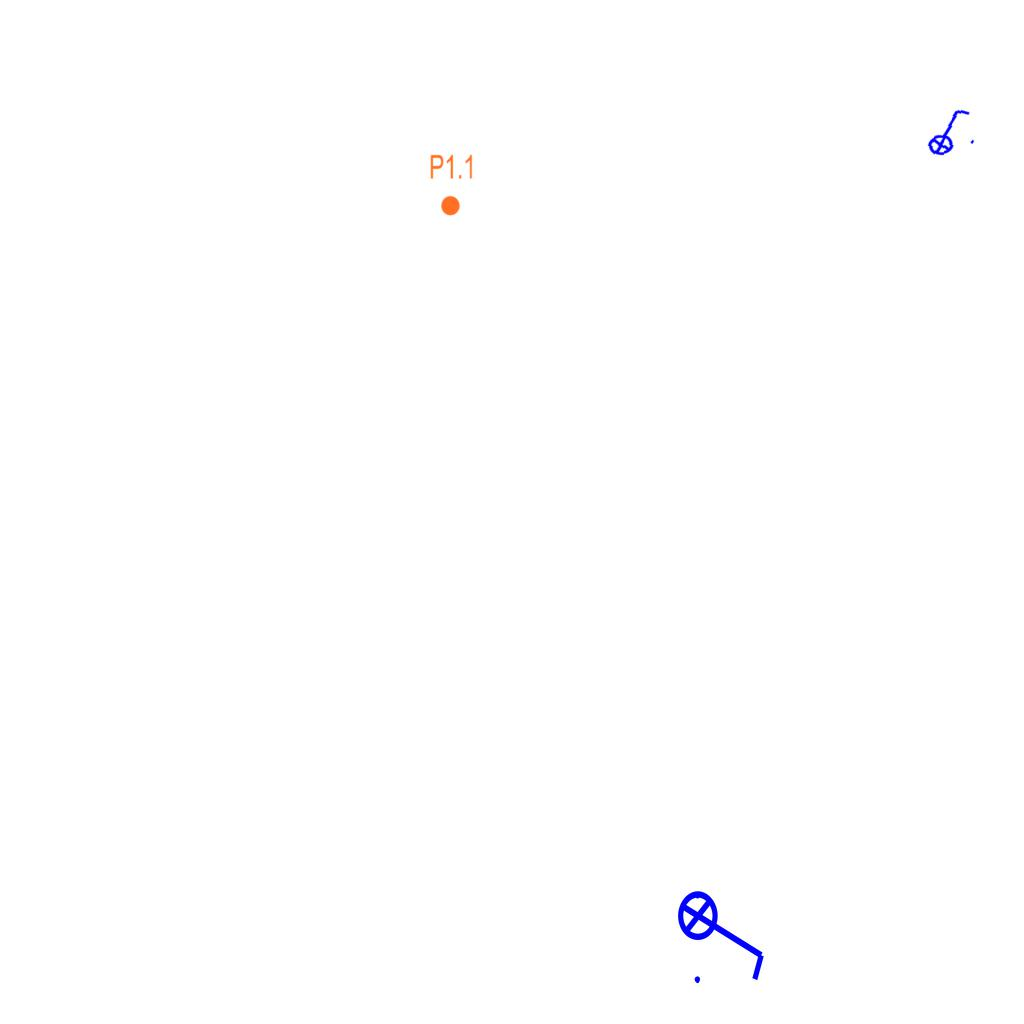Ausschalter_beleuchtet: (676, 877, 772, 989), (917, 104, 979, 158)
Downlight_LED_Einbauleuchten_Flur: (429, 153, 475, 217)
